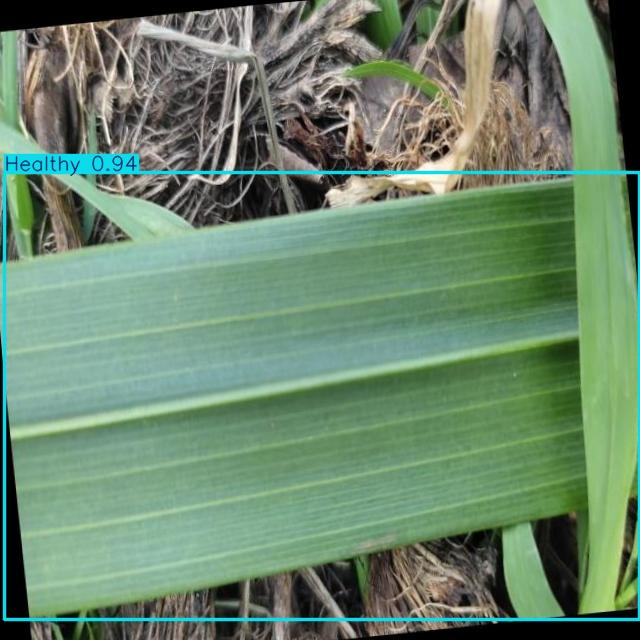Healthy: (5, 172, 639, 619)
